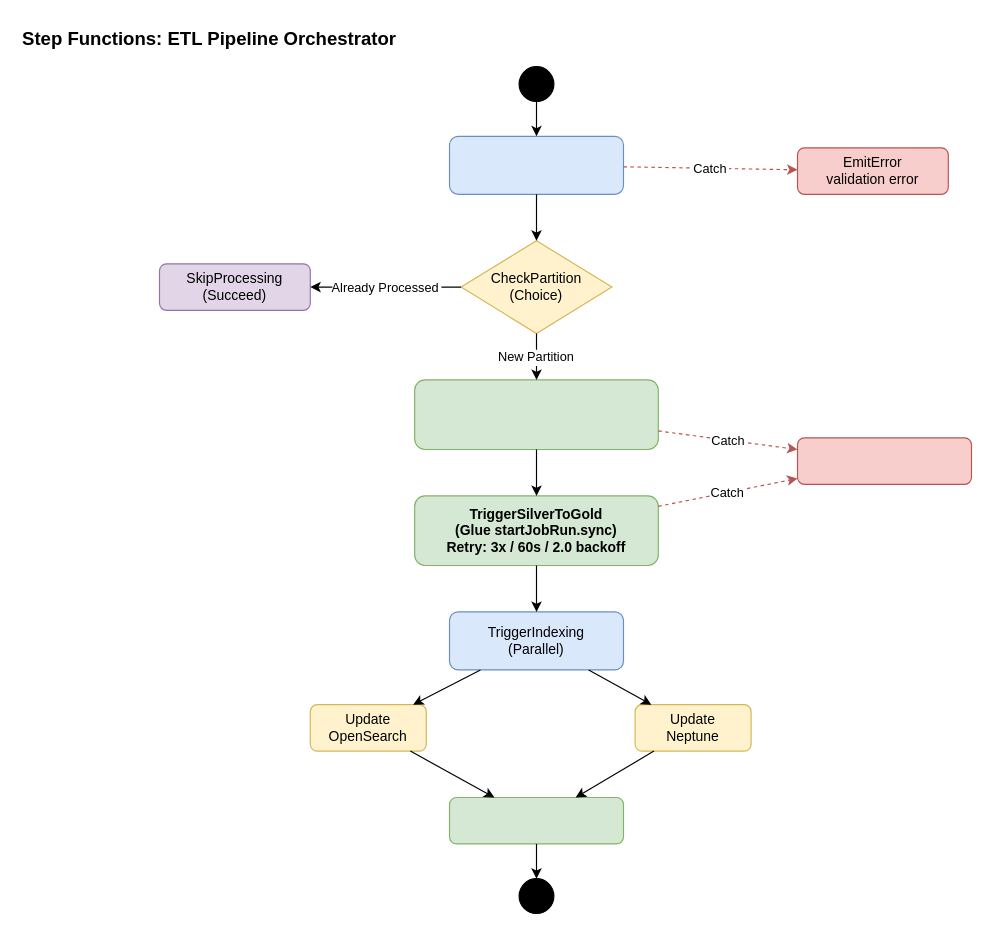
Image size: 992x934. Some labels were removed from this diagram. The shapes that lost their labels are listed below. From the top down, each one's box as (x1, y1, x2, y2) in pixels, then its label:
(448, 135, 624, 194): ValidateInput (Lambda)
(414, 379, 658, 449): TriggerBronzeToSilver (Glue startJobRun.sync) Retry: 3x / 60s / 2.0 backoff
(796, 437, 971, 484): EmitFailure pipeline.failed event
(448, 796, 624, 844): EmitSuccess (EventBridge put)
